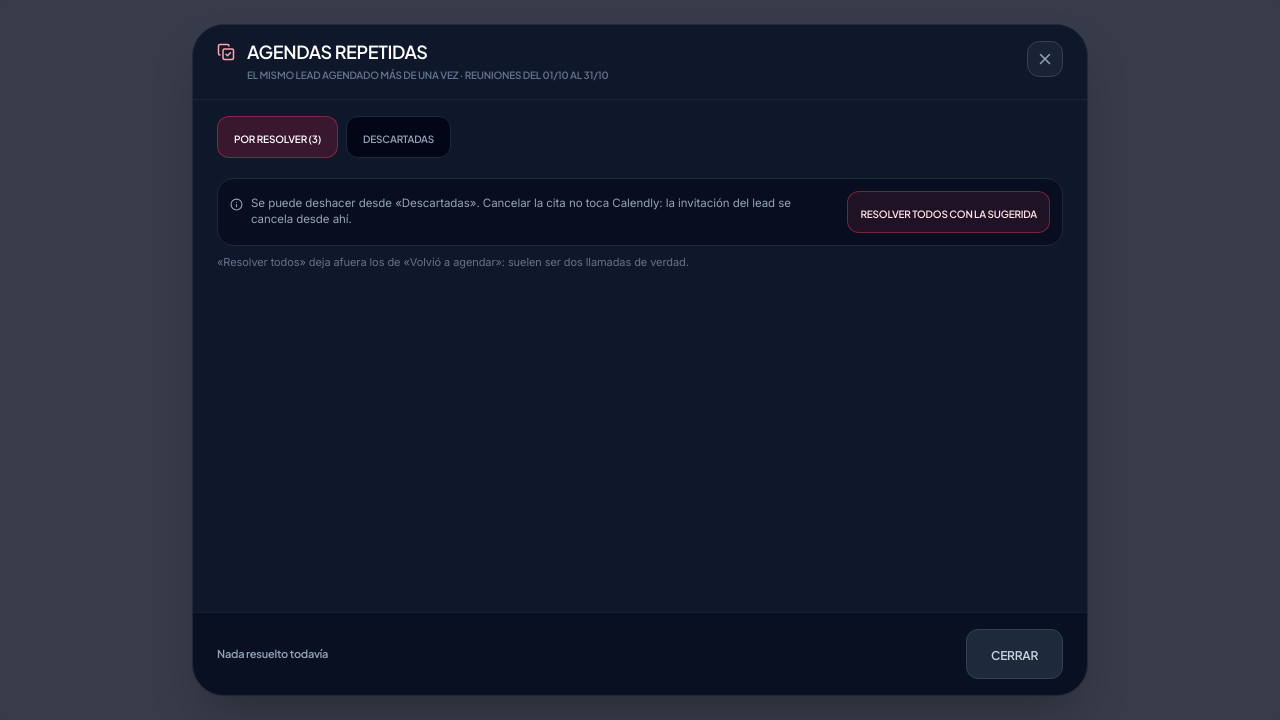
Test case: Duplicados · el panel › «Descartadas» lista lo descartado y restaura: avisa a Revisar y vuelve a buscar los grupos
Click the tab "Descartadas" at (399, 136), box [346,116,451,158]
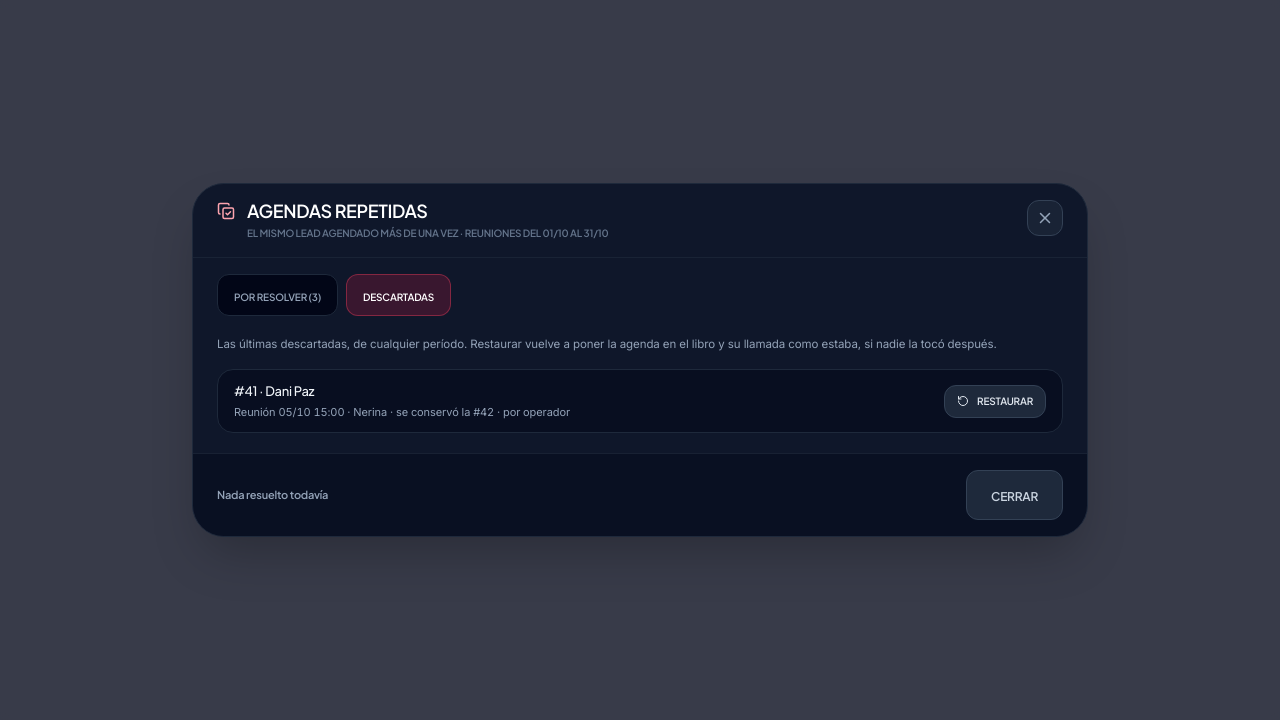
Result: the list named "Agendas descartadas" shows "#41 · Dani Paz" at [217,369,1063,433]
Result: the list named "Agendas descartadas" shows "se conservó la #42" at [234,405,570,419]
Click the button with aria-label "Restaurar #41" at (995, 401), box [944,385,1046,418]
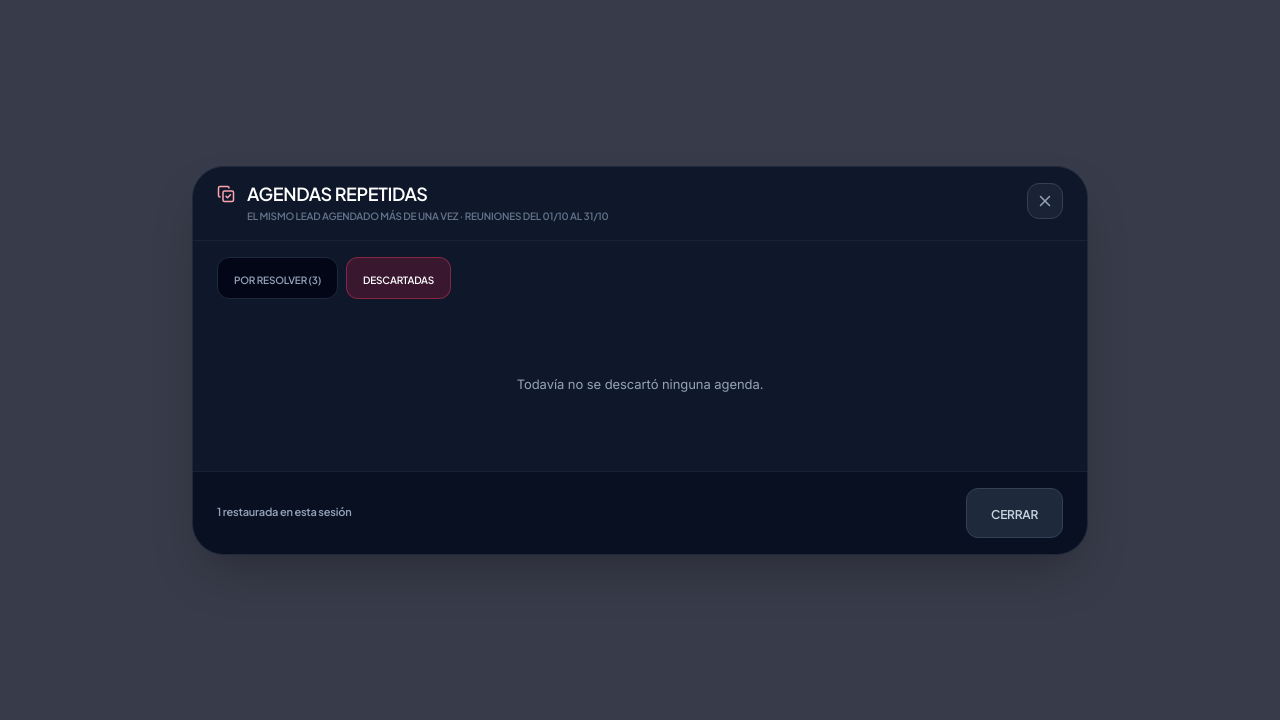
Result: the text "Todavía no se descartó ninguna agenda." is shown at [517,376,763,392]
